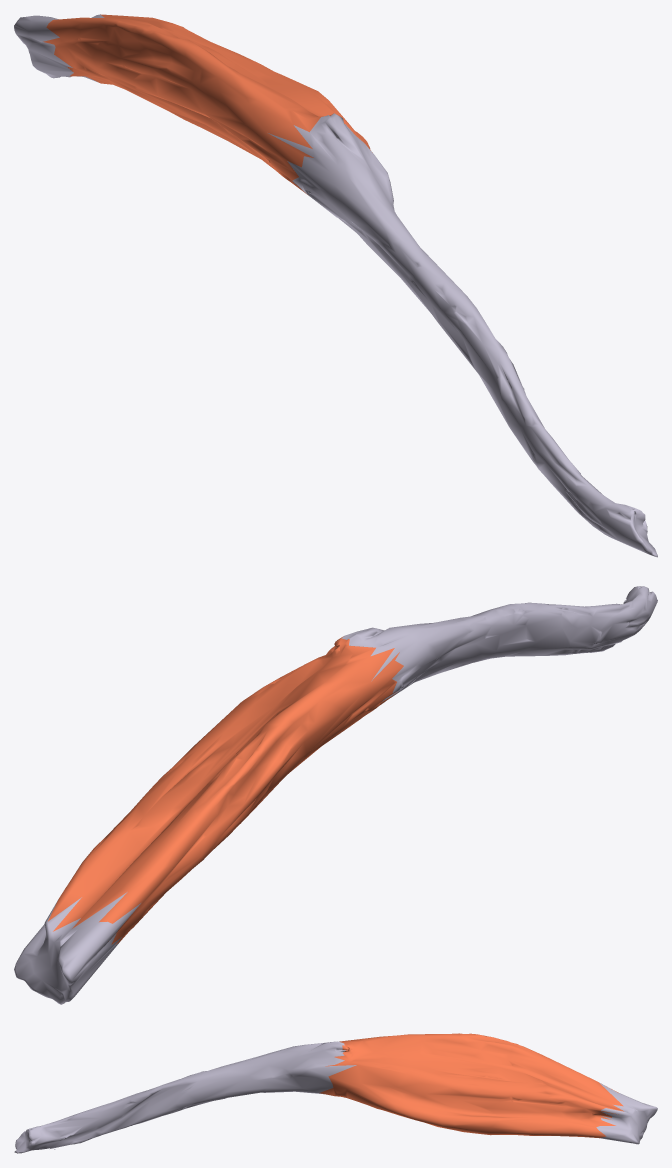
The model's file is Abductor_hallucis.l_Generated_Mesh_From_X3D.1017.glb.
3 renders of one model, top to bottom at view 1: azimuth 30°, elevation 25°; view 2: azimuth 150°, elevation 25°; view 3: azimuth 270°, elevation 25°, orthographic. The views are drawn at different scales.
Parts seen in each view (by area): view 1: Abductor_hallucis.l_Generated_Mesh_From_X3D.1017; view 2: Abductor_hallucis.l_Generated_Mesh_From_X3D.1017; view 3: Abductor_hallucis.l_Generated_Mesh_From_X3D.1017.
Part boxes in pixels (x1,y1,x2,y2): Abductor_hallucis.l_Generated_Mesh_From_X3D.1017: (14,14,657,557); Abductor_hallucis.l_Generated_Mesh_From_X3D.1017: (14,586,657,1004); Abductor_hallucis.l_Generated_Mesh_From_X3D.1017: (14,1033,657,1153).
Size of the model in its own units: 0.0204 by 0.0269 by 0.1451.
